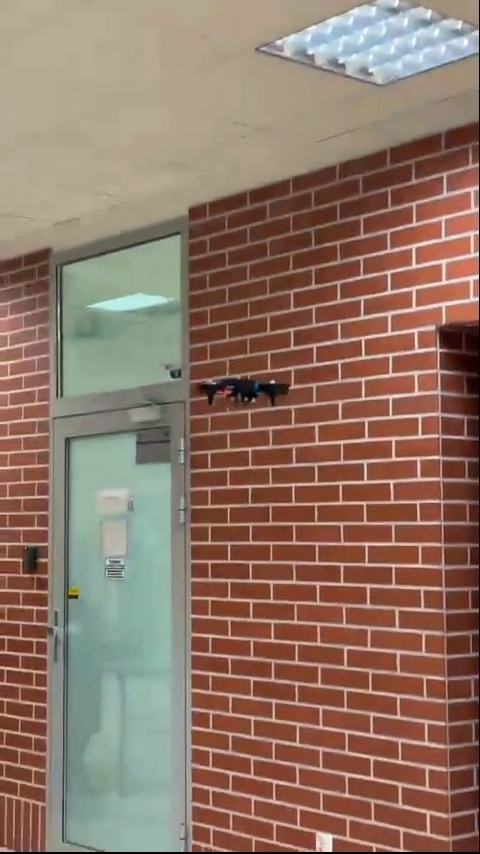drone: (199, 373, 297, 408)
